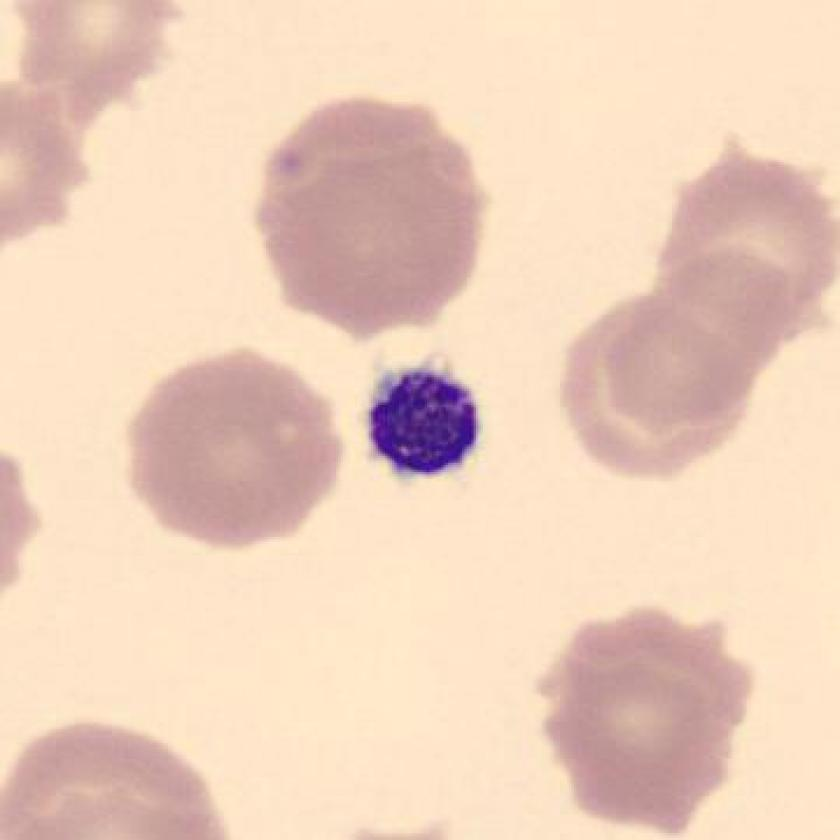platelets: (356, 341, 493, 496)
